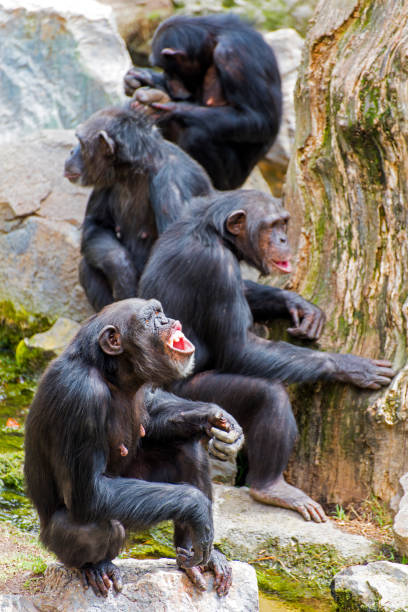chimpanzee: (215, 180, 319, 313), (96, 294, 215, 403)
